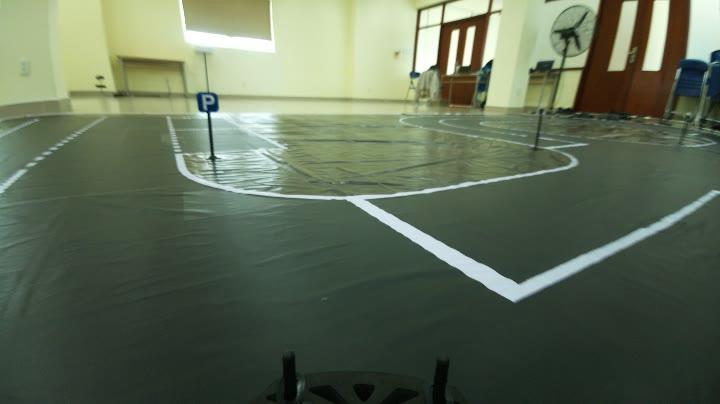parking: (192, 88, 226, 122)
